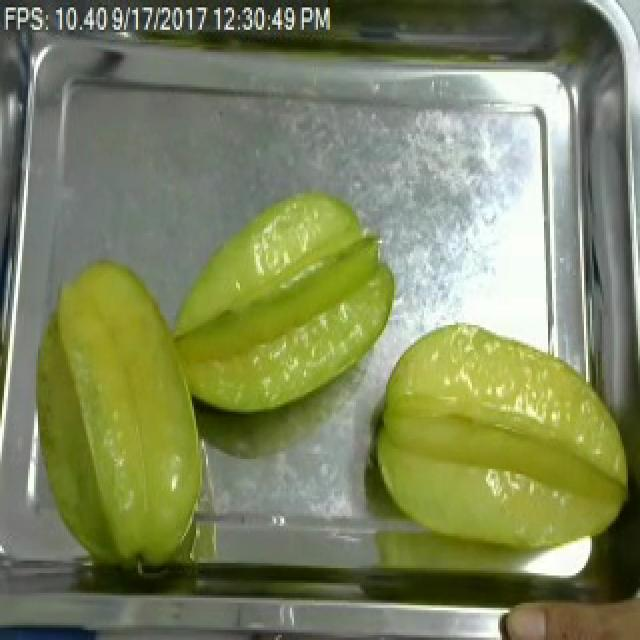fruit: (358, 308, 640, 588), (16, 245, 218, 588), (156, 176, 408, 424), (492, 565, 640, 640)
